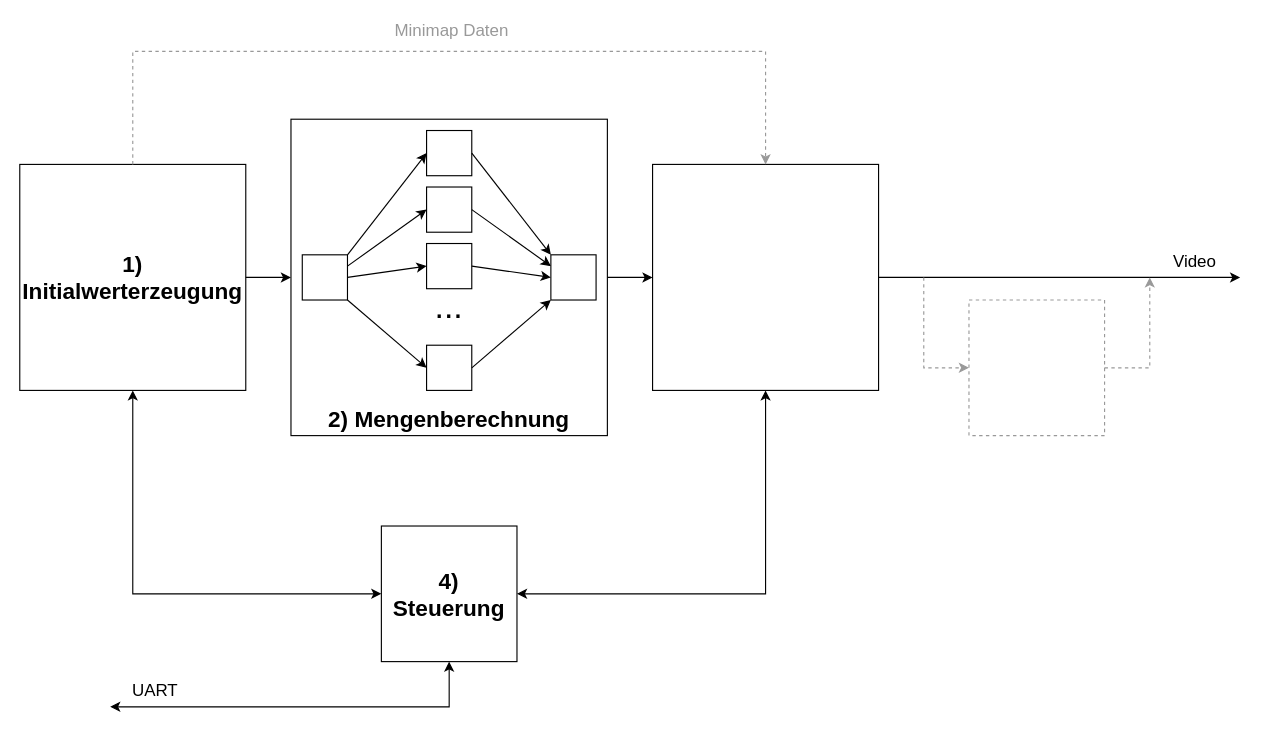
The diagram is 1269 pixels wide and 737 high, and some of its shapes have lost their labels. The shapes that lost their labels are listed below. From the top down, each one's box as (x1, y1, x2, y2) in pixels, then its label:
(651, 163, 879, 390): 3) Visualisierung
(968, 299, 1105, 436): DVI Encoder
